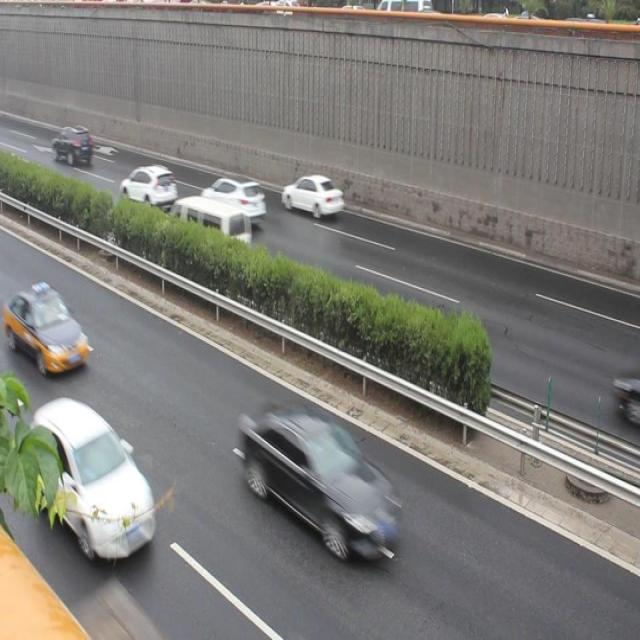car: (235, 402, 393, 554), (27, 395, 158, 552), (1, 284, 87, 370), (202, 173, 268, 224), (118, 161, 176, 215), (604, 350, 640, 436), (280, 172, 341, 222), (50, 120, 92, 170)
truck: (168, 192, 248, 255)
